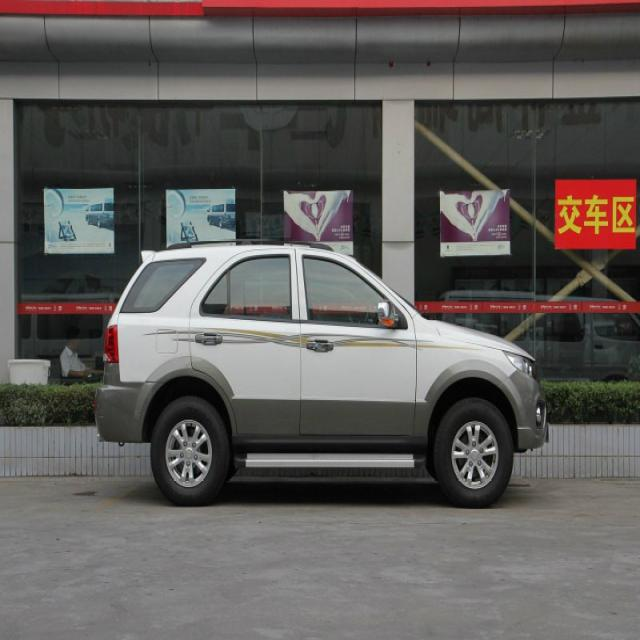back_right_side_light: (102, 324, 121, 366)
door: (188, 248, 306, 444)
front_bumper: (500, 366, 550, 451)
front_right_side_door: (294, 246, 418, 444)
front_right_side_light: (502, 346, 538, 382)
front_right_side_mirror: (377, 299, 400, 331)
rear_bumper: (92, 359, 162, 443)
wheel: (150, 395, 230, 507), (432, 396, 513, 506)
